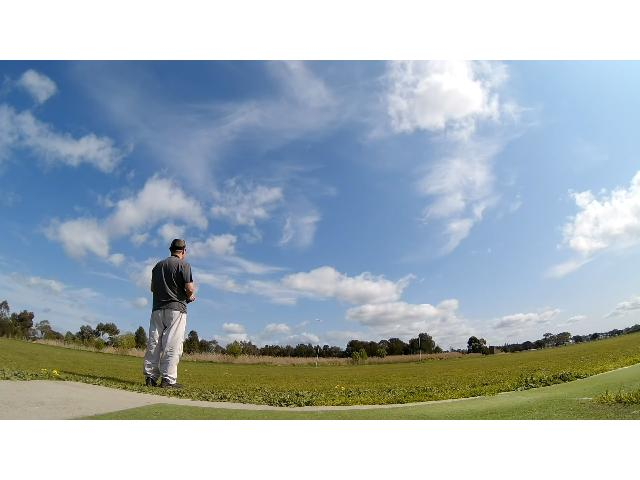Anti-Drone: (308, 316, 334, 326)
